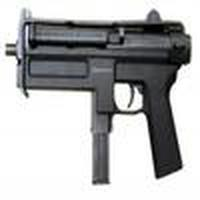gun: (2, 9, 199, 145)
